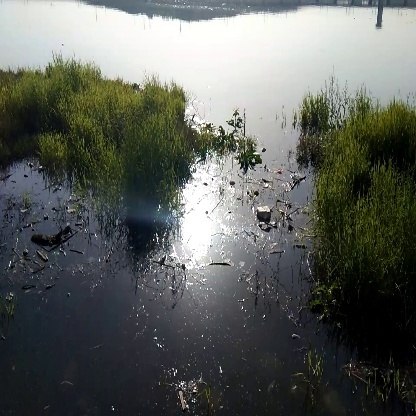plastic-garbage: (252, 194, 275, 226)
